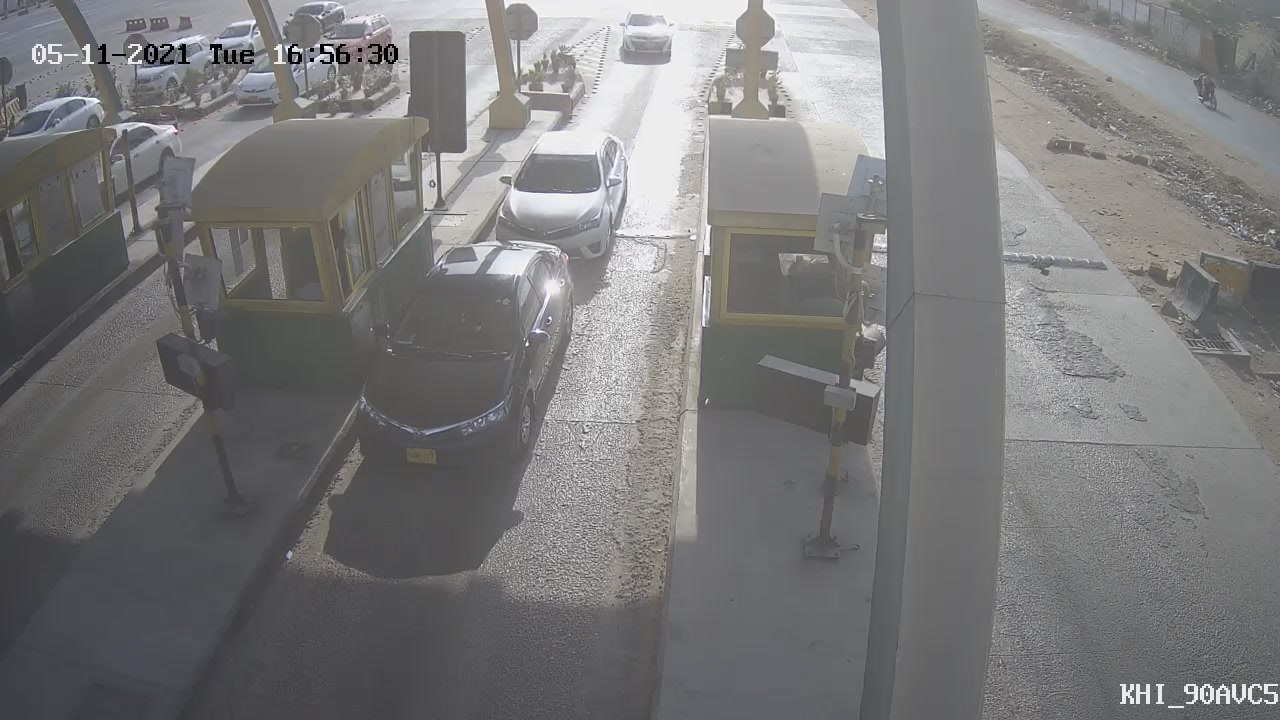F1: (339, 222, 596, 507), (468, 113, 644, 290)
